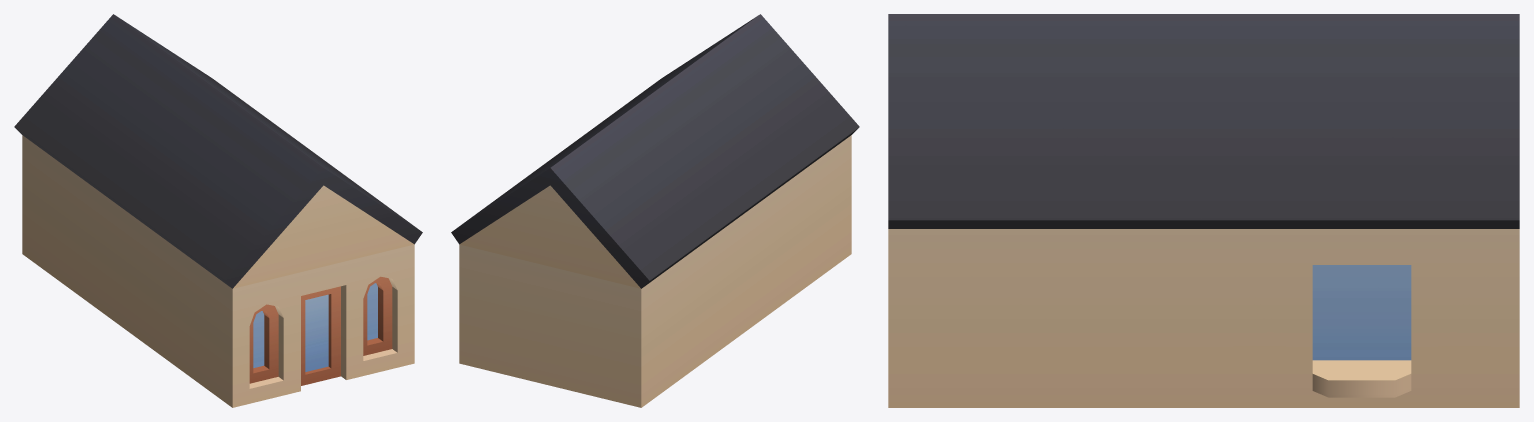
Rendered from kenney-modular-buildings-building-sample-house-a.glb.
3 views of the same model, side by side, from view 1: azimuth 30°, elevation 25°; view 2: azimuth 150°, elevation 25°; view 3: azimuth 270°, elevation 25° (orthographic). The views are drawn at different scales.
Visible parts, largest first — view 1: building-sample-house-a; view 2: building-sample-house-a; view 3: building-sample-house-a.
Part boxes in pixels (<box>): building-sample-house-a: <box>14,14,422,407</box>; building-sample-house-a: <box>451,14,859,407</box>; building-sample-house-a: <box>888,14,1519,407</box>.
Bounding box in the file's own units: 1.1 × 1.14 × 2.
1 material, 1 textured.
